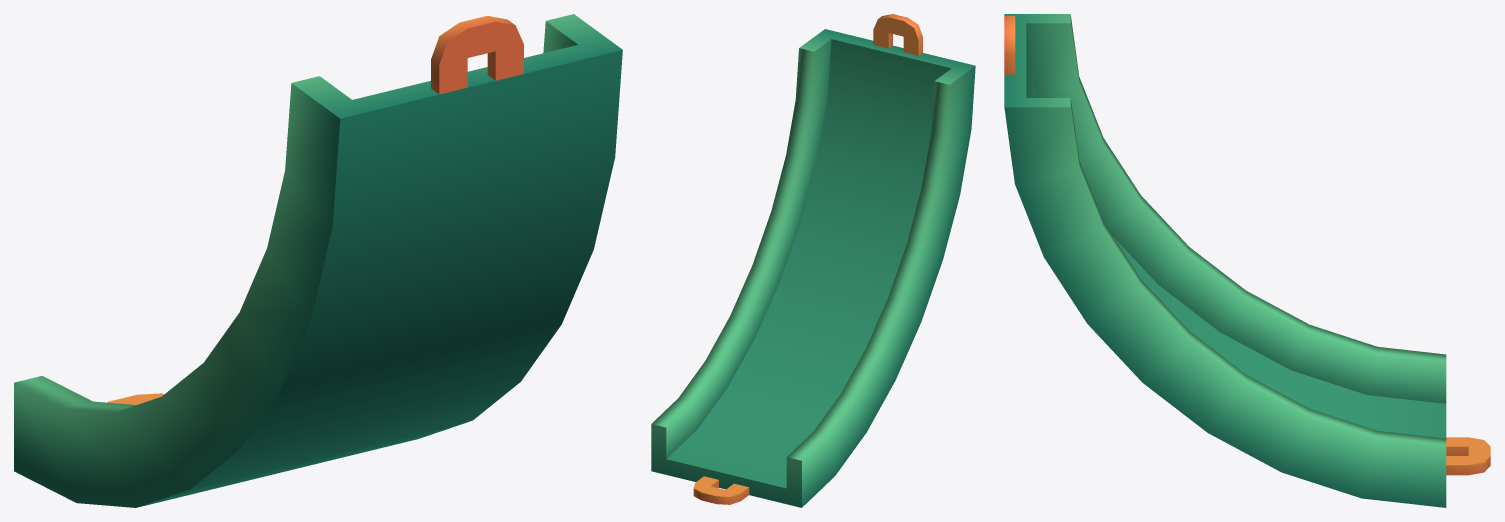
File: track-narrow-straight-bend.fbx
3 renders of one model, left to right at view 1: azimuth 30°, elevation 25°; view 2: azimuth 150°, elevation 25°; view 3: azimuth 270°, elevation 25°, orthographic. The views are drawn at different scales.
Visible parts, largest first — view 1: track-narrow-straight-bend; view 2: track-narrow-straight-bend; view 3: track-narrow-straight-bend.
Boxes of the visible parts, x1,y1,x2,y2 form: track-narrow-straight-bend: (14,14,622,507); track-narrow-straight-bend: (651,14,975,507); track-narrow-straight-bend: (1004,14,1490,507).
Bounding box in the file's own units: 100 × 220 × 220.
